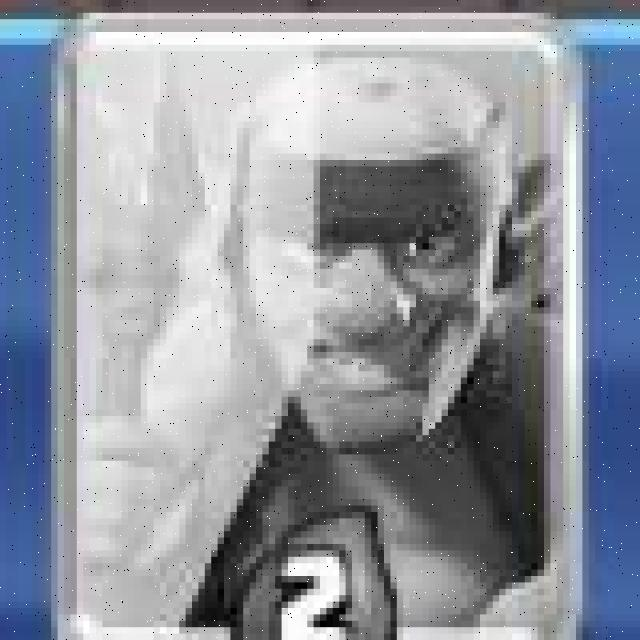Spear_Goblins: (58, 18, 585, 634)
